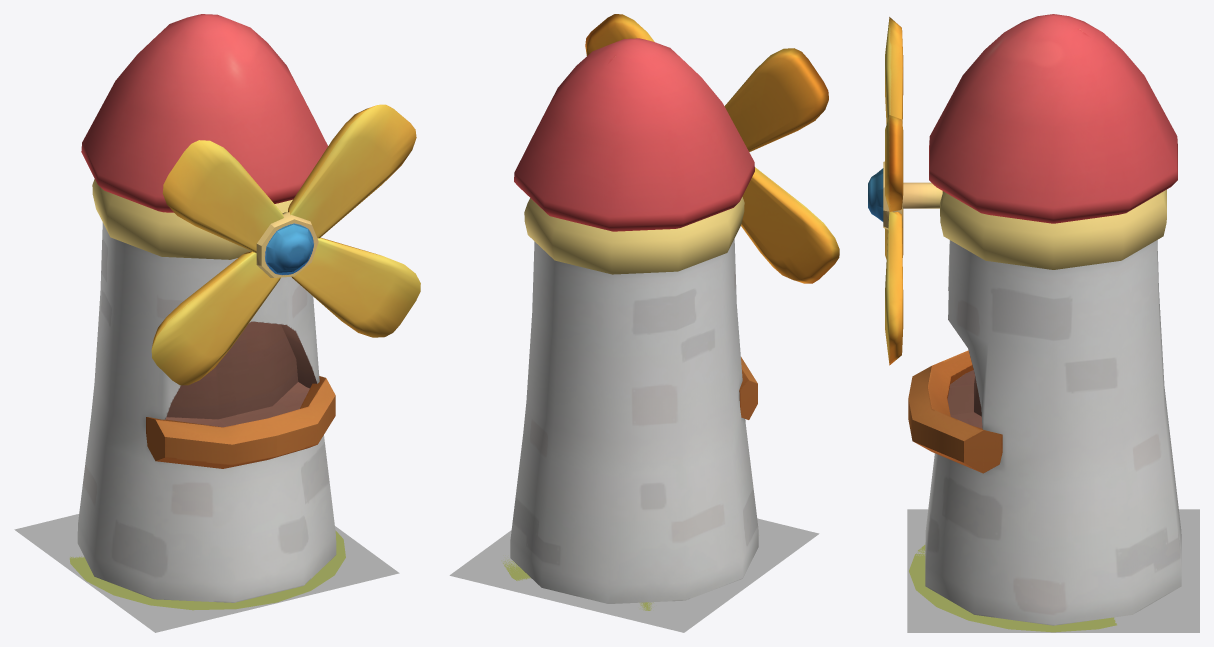
File: WindMill.fbx
The picture shows the model from 3 angles, left to right: view 1: azimuth 30°, elevation 25°; view 2: azimuth 150°, elevation 25°; view 3: azimuth 270°, elevation 25°; orthographic projection. The views are drawn at different scales.
Parts seen in each view (by area): view 1: Windmill, Propeller, Propeller2, Log, Propeller3, Propeller1, WindmillGrid.001, WindmillShadow, Screw; view 2: Windmill, WindmillGrid.001, Propeller3, Propeller2, Propeller, Log; view 3: Windmill, WindmillGrid.001, Log, Propeller1, WindmillShadow, Screw, Propeller3, Propeller.
Boxes of the visible parts, bbox=[...] form: Windmill: bbox=[77, 14, 336, 602]; Propeller: bbox=[288, 104, 416, 238]; Propeller2: bbox=[151, 251, 280, 385]; Log: bbox=[146, 376, 335, 468]; Propeller3: bbox=[162, 140, 283, 252]; Propeller1: bbox=[291, 237, 420, 337]; WindmillGrid.001: bbox=[14, 514, 399, 632]; WindmillShadow: bbox=[69, 530, 345, 610]; Screw: bbox=[253, 212, 318, 277]; Windmill: bbox=[510, 38, 758, 603]; WindmillGrid.001: bbox=[449, 518, 819, 632]; Propeller3: bbox=[724, 48, 828, 151]; Propeller2: bbox=[741, 167, 839, 283]; Propeller: bbox=[585, 14, 654, 55]; Log: bbox=[739, 357, 757, 419]; Windmill: bbox=[925, 14, 1181, 625]; WindmillGrid.001: bbox=[907, 509, 1199, 632]; Log: bbox=[908, 350, 1002, 473]; Propeller1: bbox=[885, 211, 903, 365]; WindmillShadow: bbox=[909, 545, 1116, 632]; Screw: bbox=[868, 161, 942, 229]; Propeller3: bbox=[885, 17, 903, 123]; Propeller: bbox=[885, 115, 903, 211].
Size of the model in its own units: 220 by 418 by 227.
